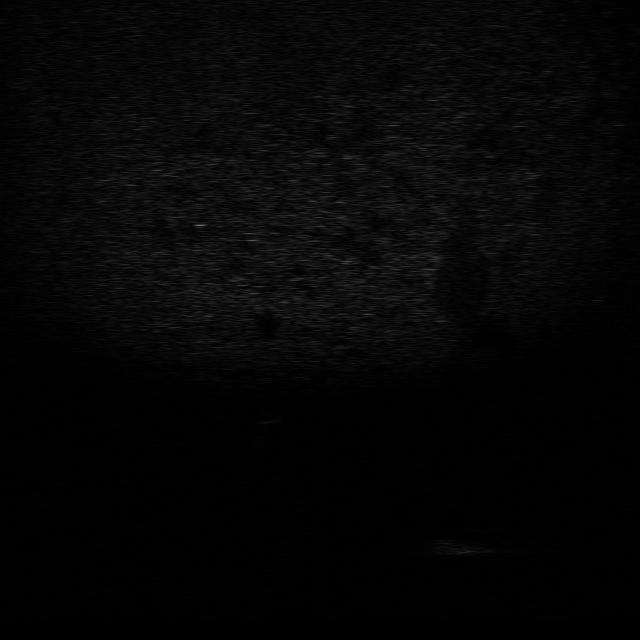ball: (248, 404, 288, 425)
metal bucket: (424, 535, 501, 557)
tyre: (469, 522, 521, 536)
